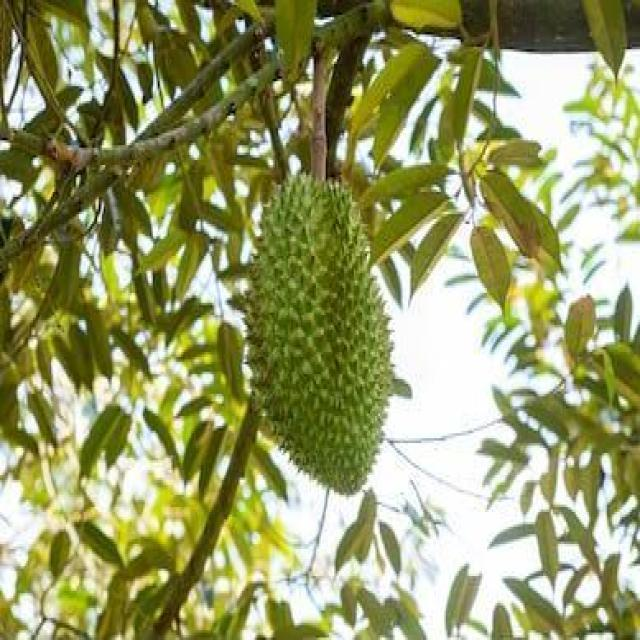immature: (245, 168, 393, 499)
